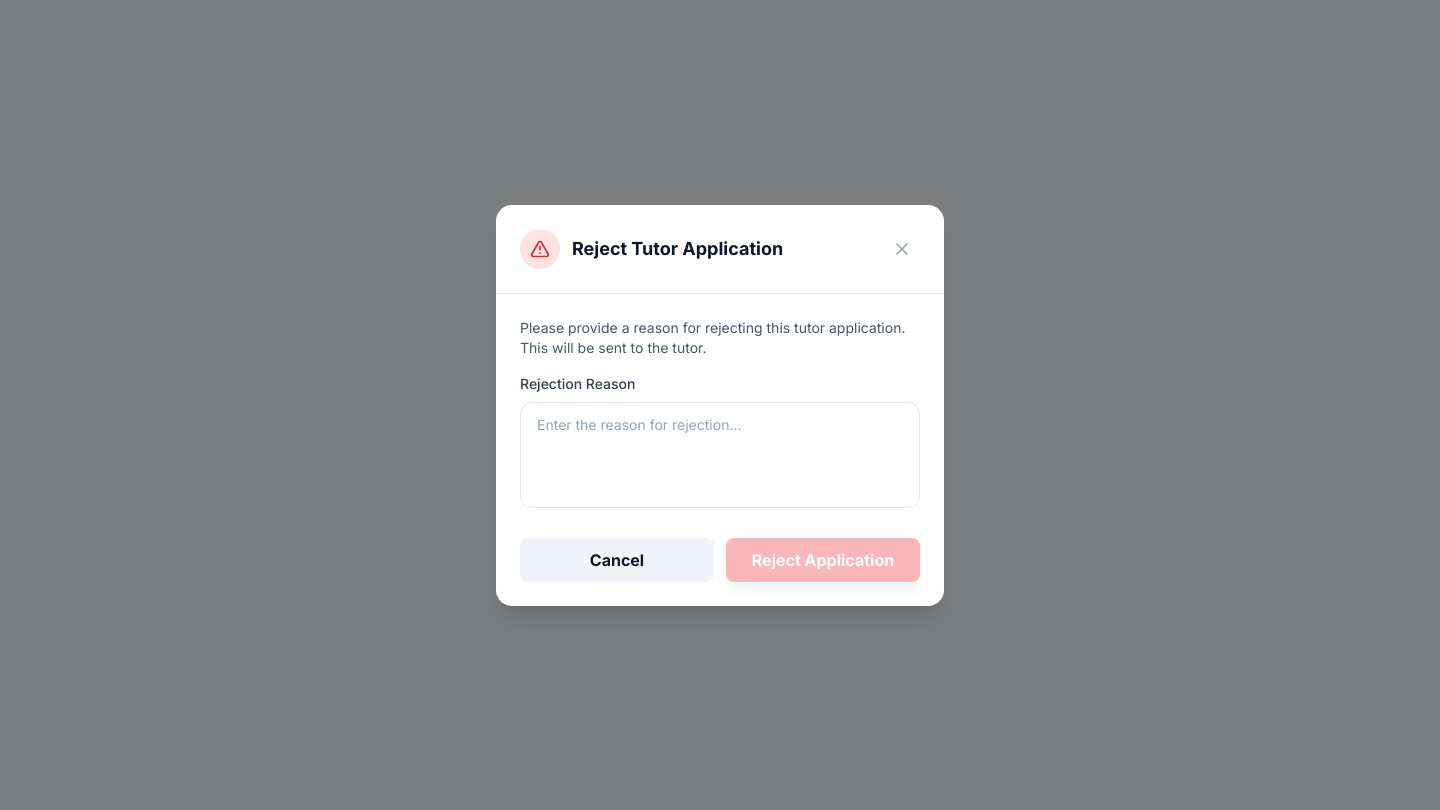
Scenario: RejectReasonModal › form submission › disables buttons during submission
Type "Test reason" into the text box labelled "Rejection Reason" at (720, 454), box [520,402,920,508]
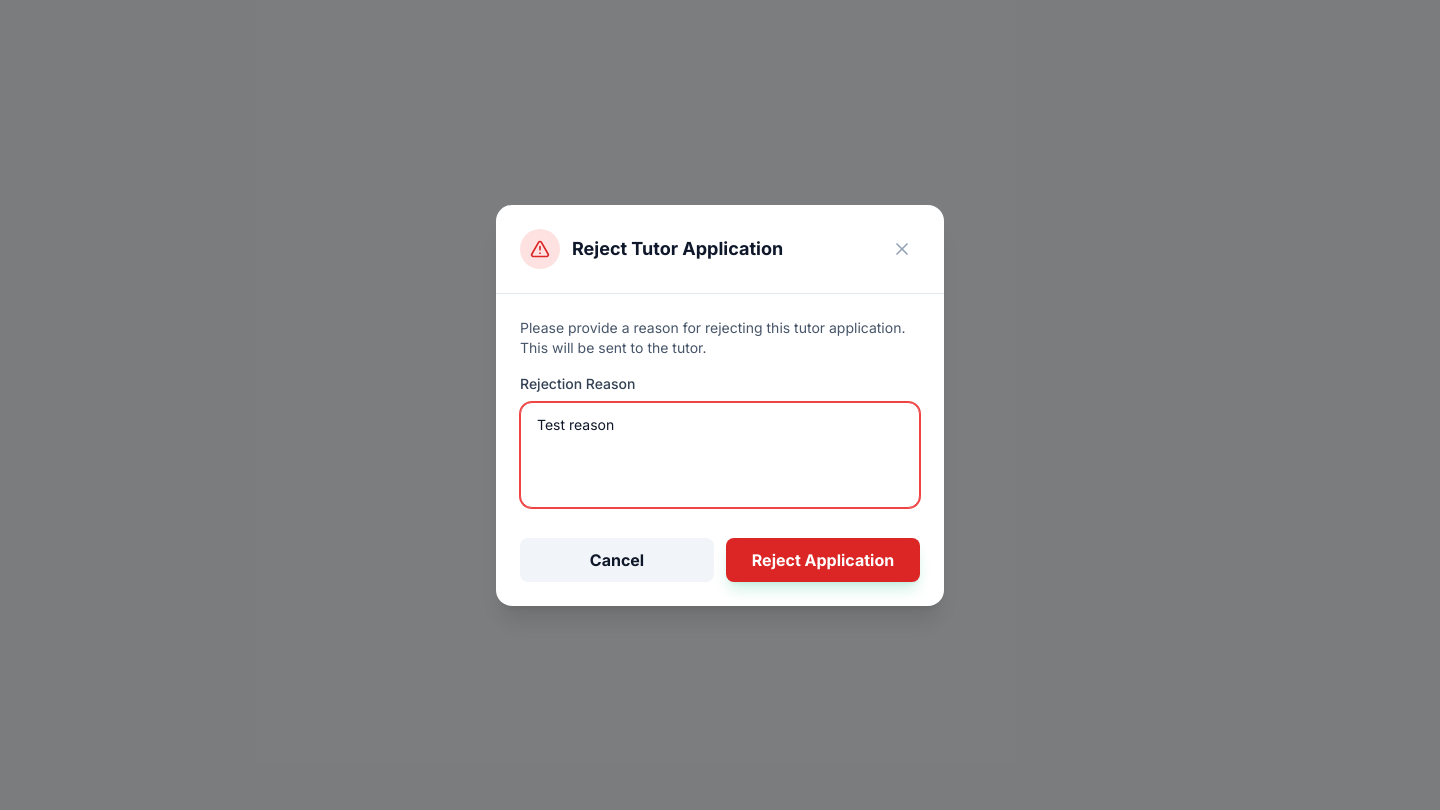
Click the button "Reject Application" at (823, 560), box [726,538,920,582]
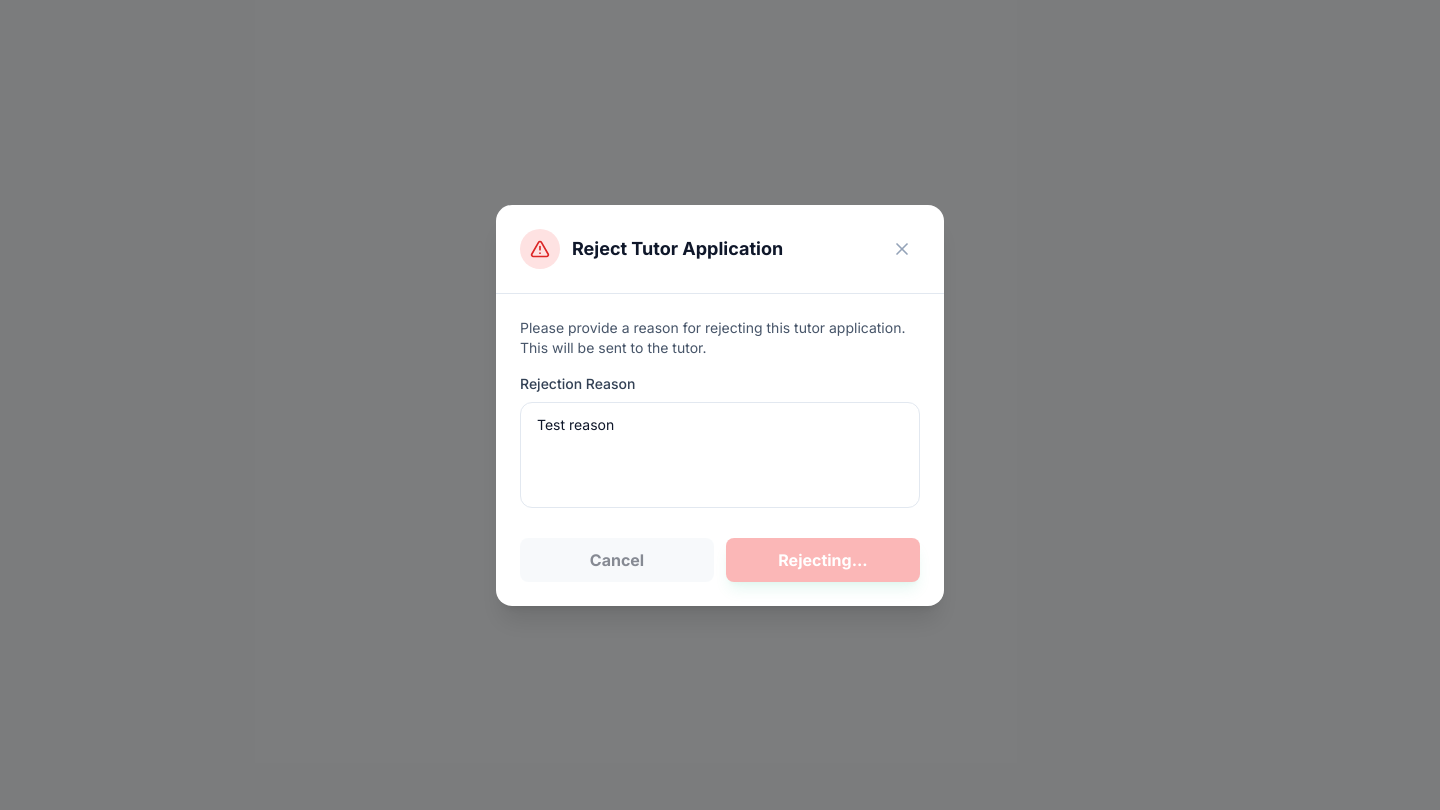
Now the button "Cancel" is disabled, box [520,538,714,582]
